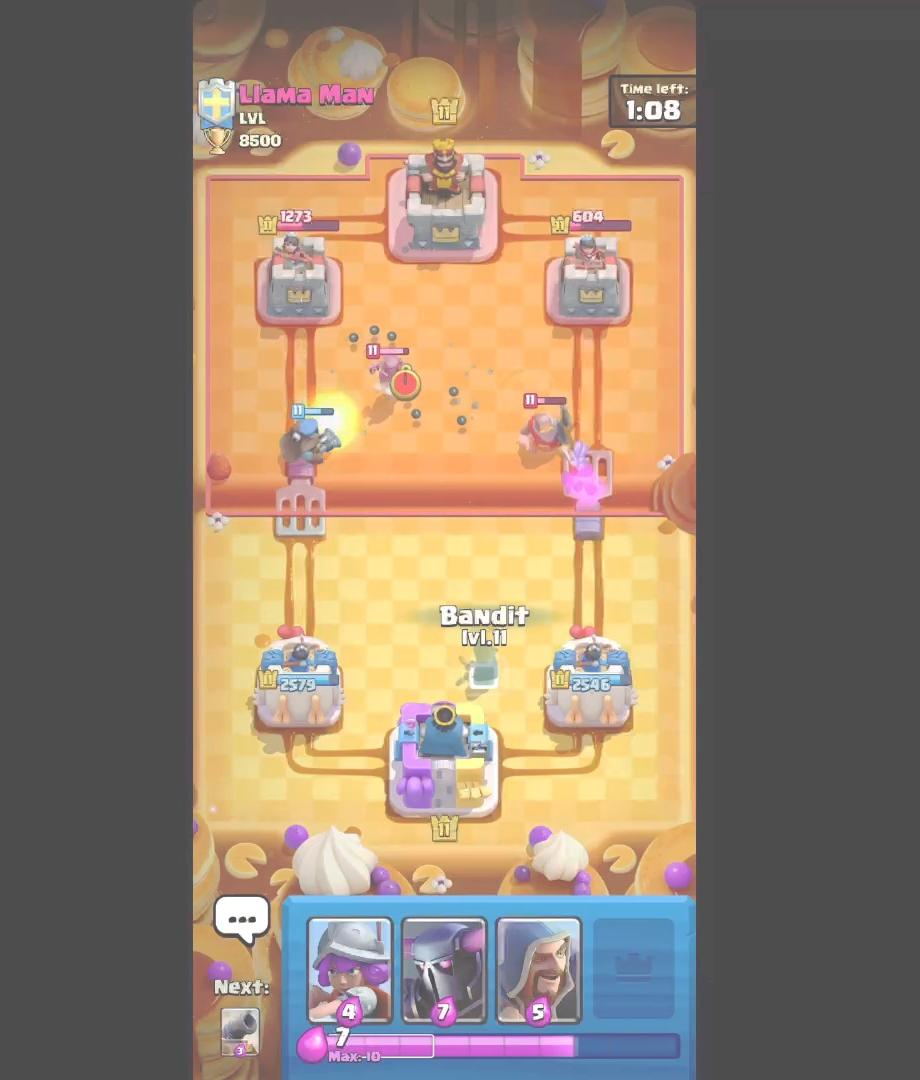Knight: (506, 387, 578, 460)
Mini Pekka: (367, 333, 426, 421)
